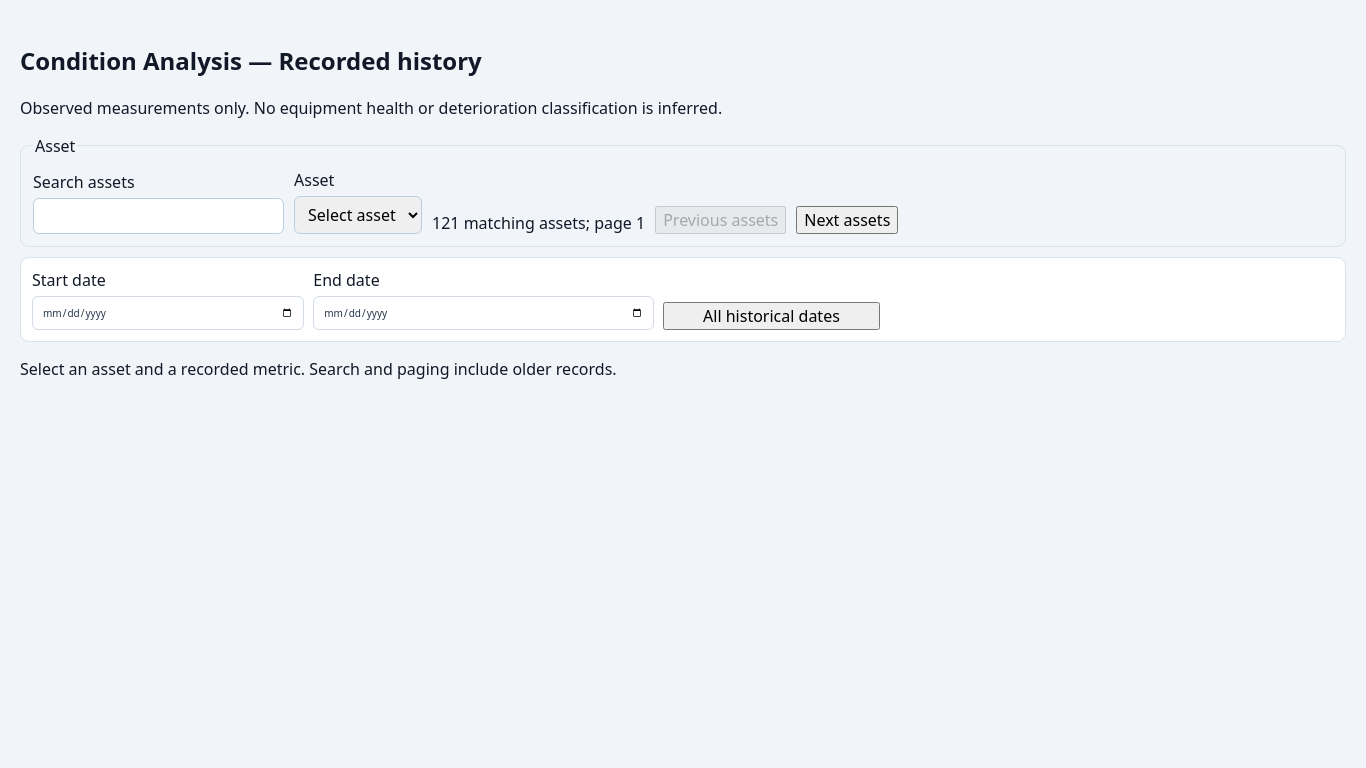
Test case: ignores stale metric history and clears selection when workspace changes
Select "FIX-1" in the dropdown named "Trend asset" at (358, 215), box [294,196,422,234]
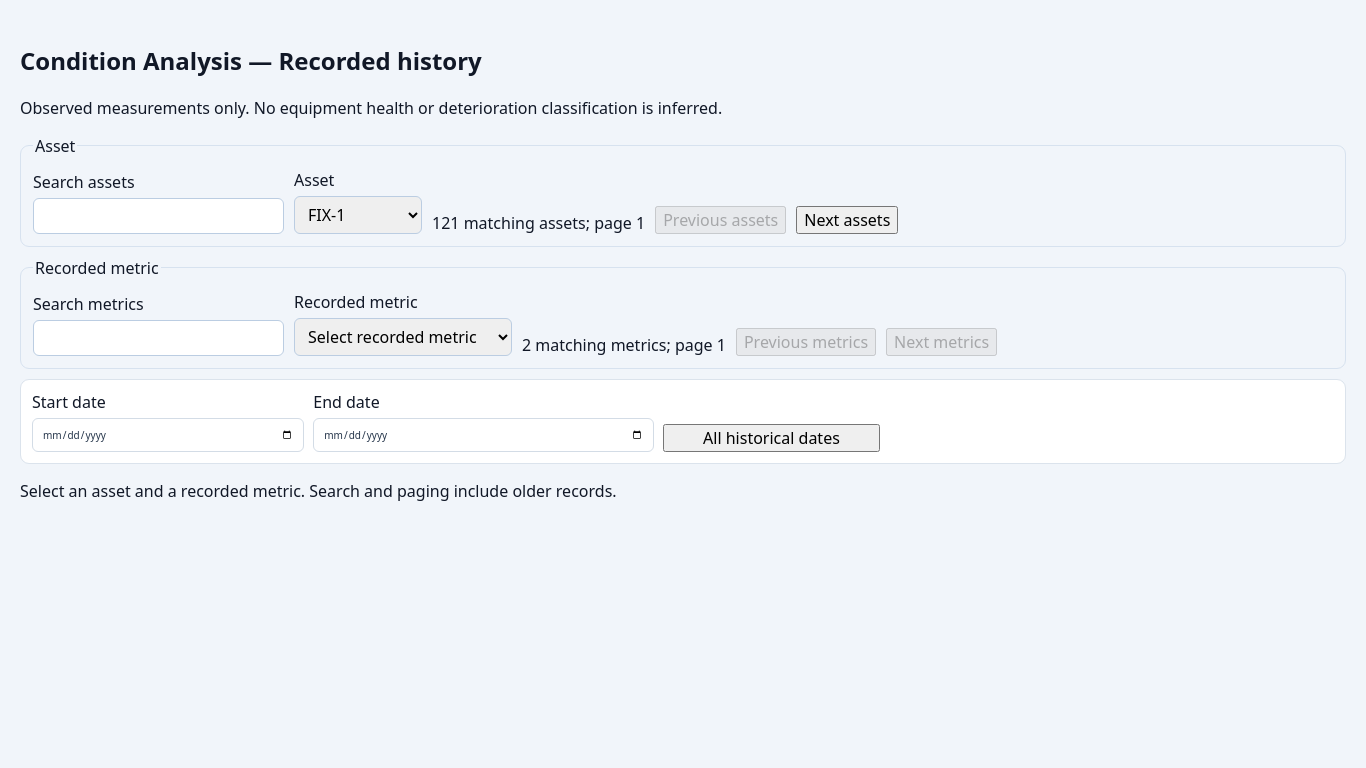
Select "old-only (51 records)" in the dropdown named "Recorded measurement metric" at (403, 337), box [294,318,512,356]
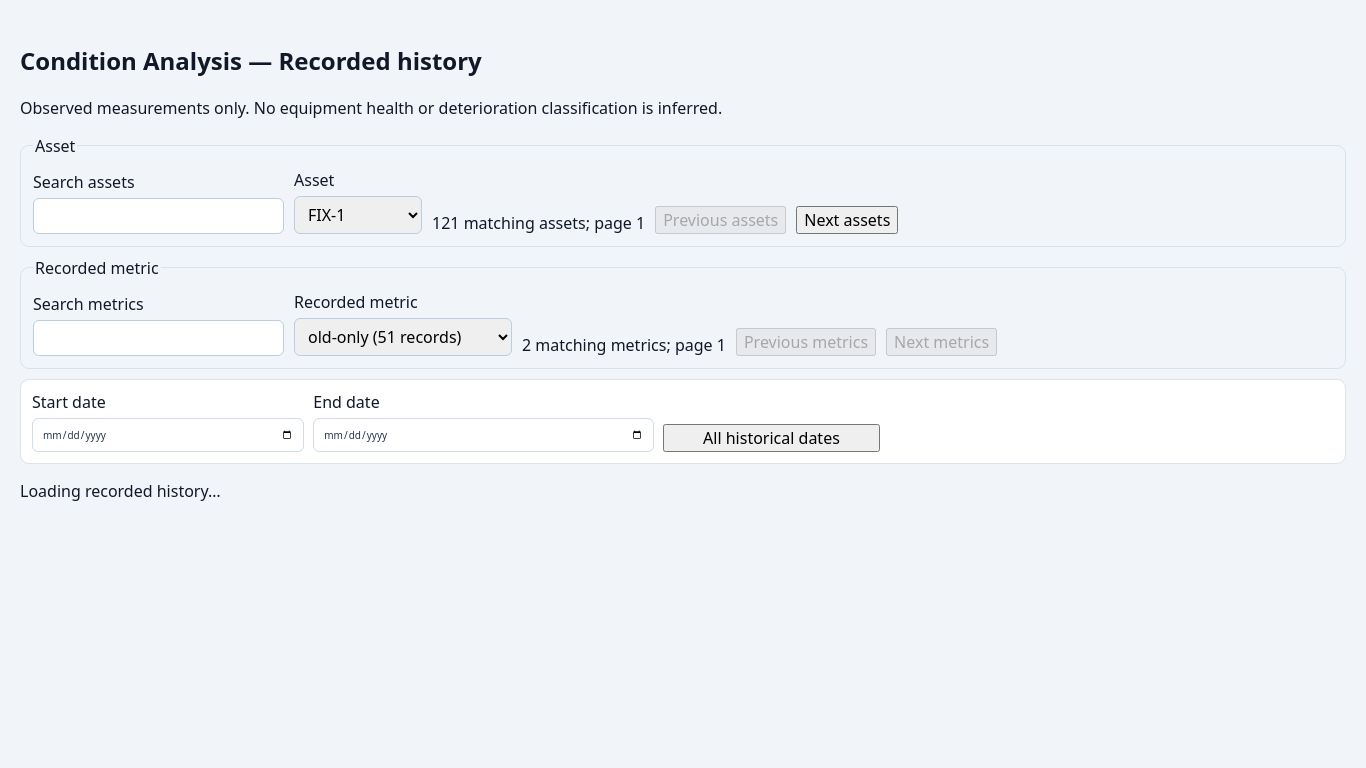
Select "new-metric (51 records)" in the dropdown named "Recorded measurement metric" at (403, 337), box [294,318,512,356]
(page scrolled)
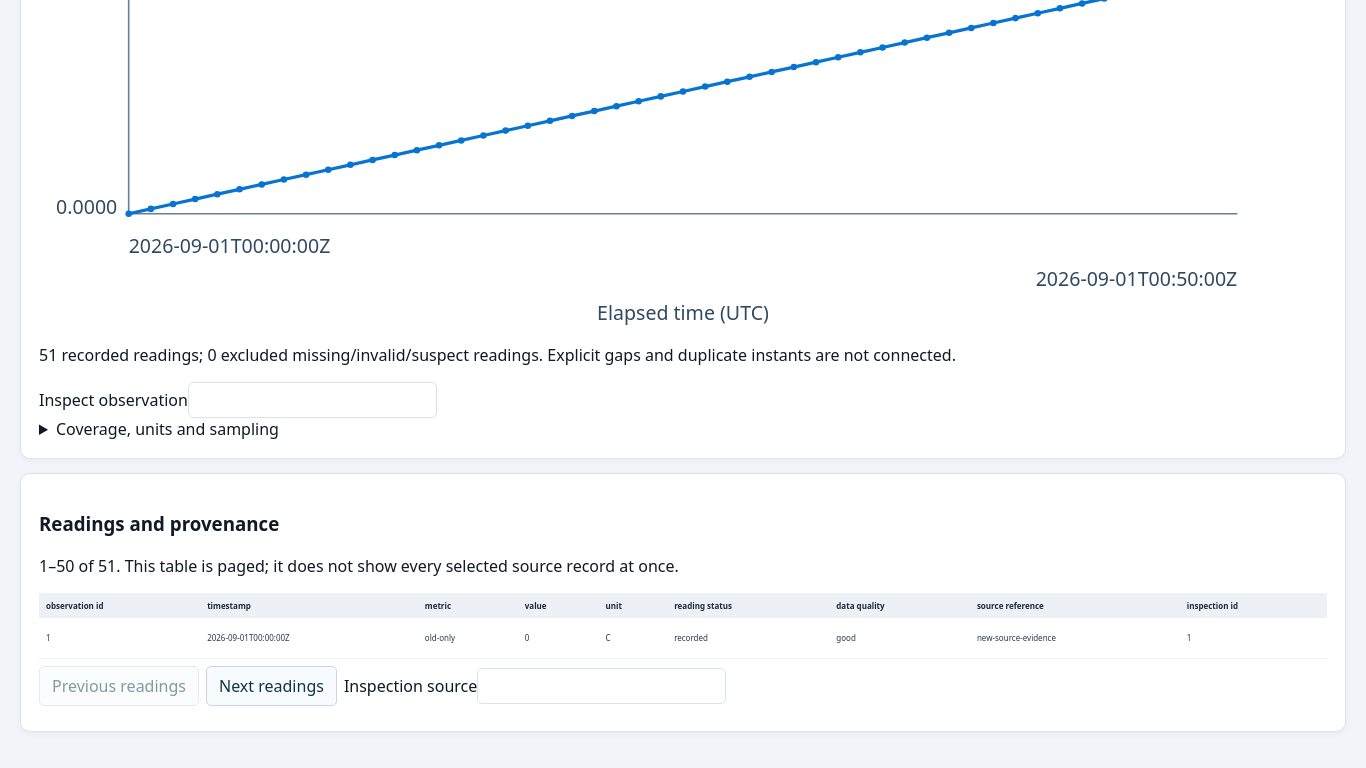
Expected: the text "new-source-evidence" is shown, [970,618,1180,659]
